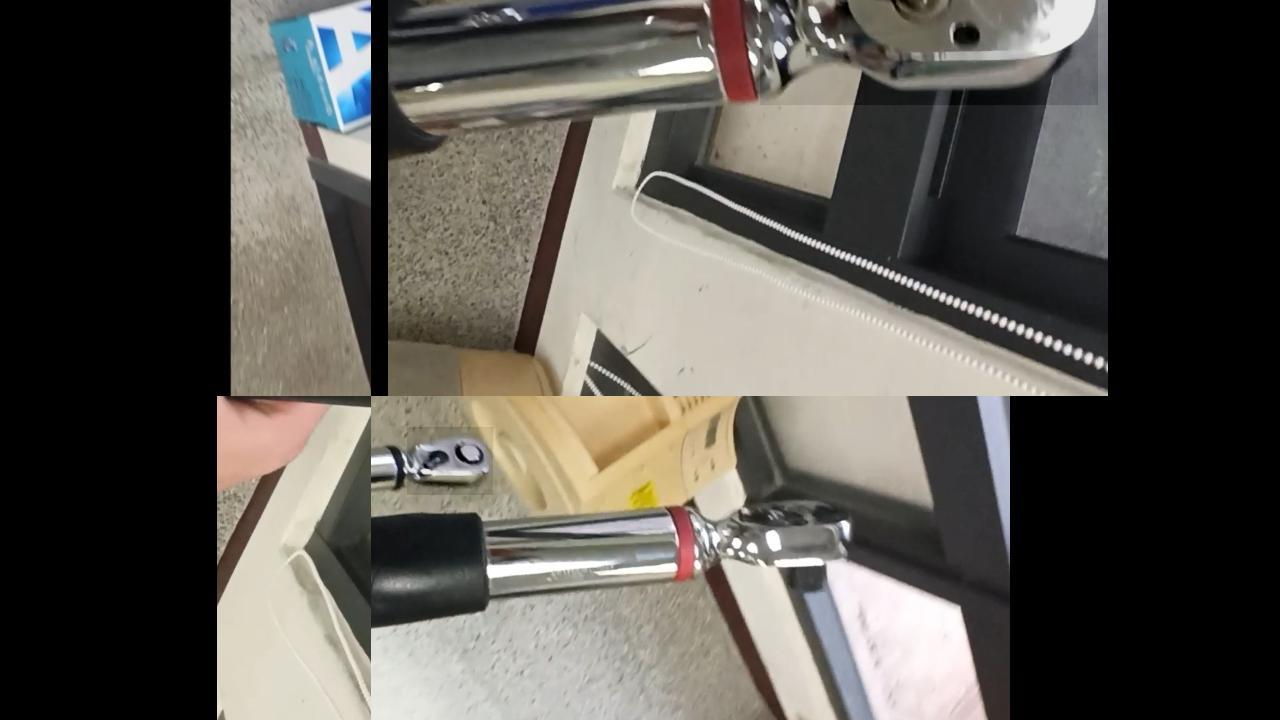Tool: (760, 0, 1098, 104), (697, 487, 851, 592), (407, 426, 493, 494)
